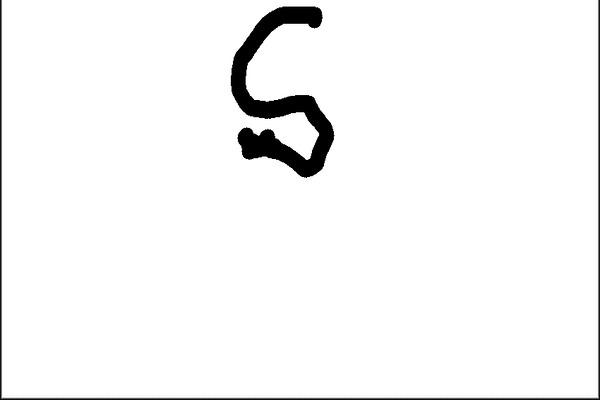S: (219, 0, 350, 189)
